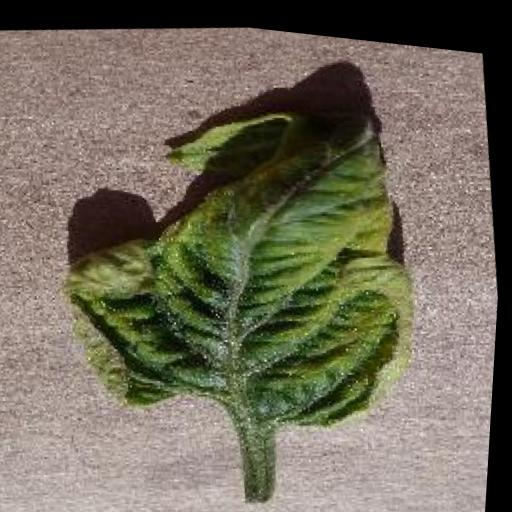Yellow Leaf Curl Virus: (35, 55, 449, 465)
